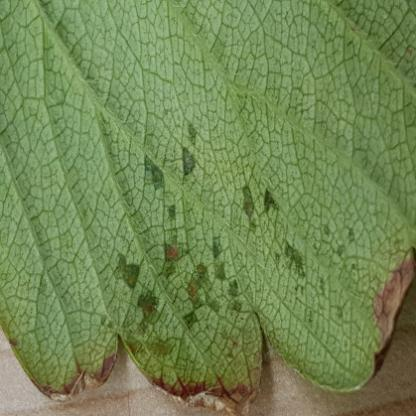Strawberry_Angular_LeafSpot: (30, 114, 415, 415)
